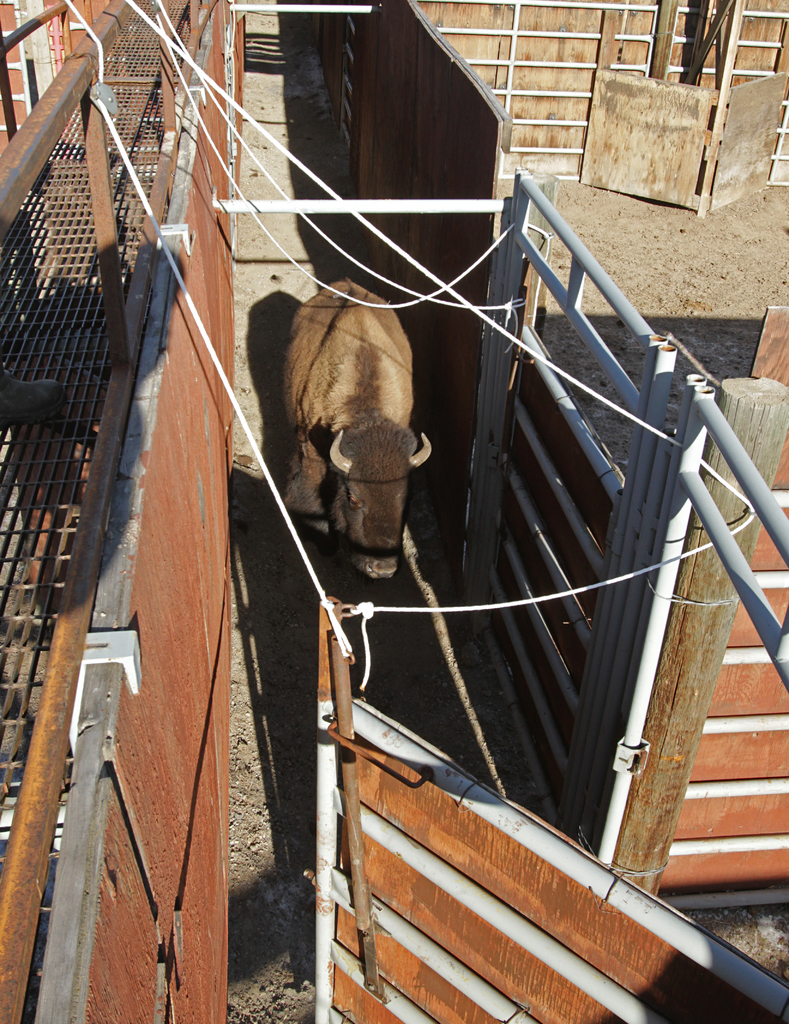Animal: (273, 276, 431, 587)
